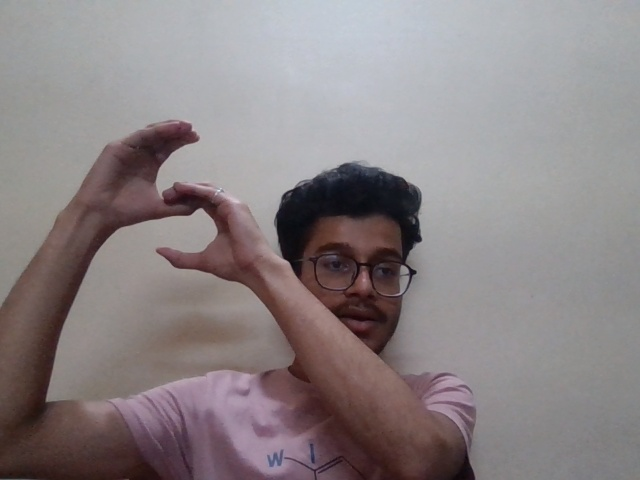S: (54, 101, 287, 296)
